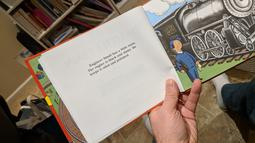text block: (84, 41, 141, 80)
